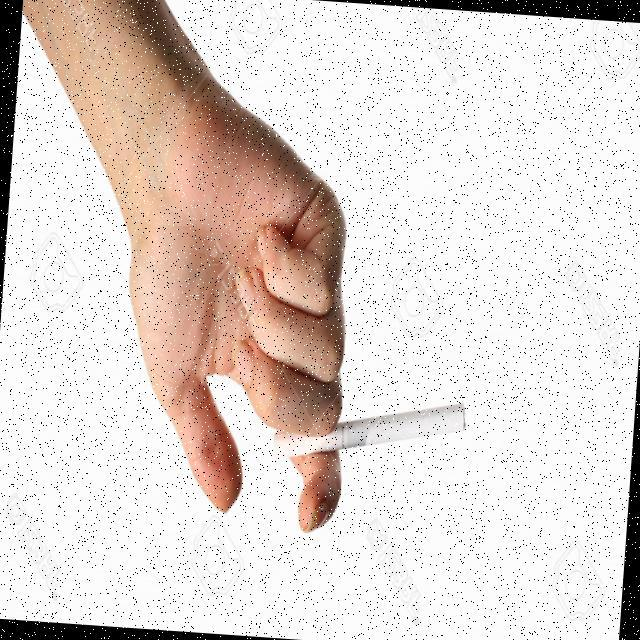cigarette: (268, 388, 468, 476)
